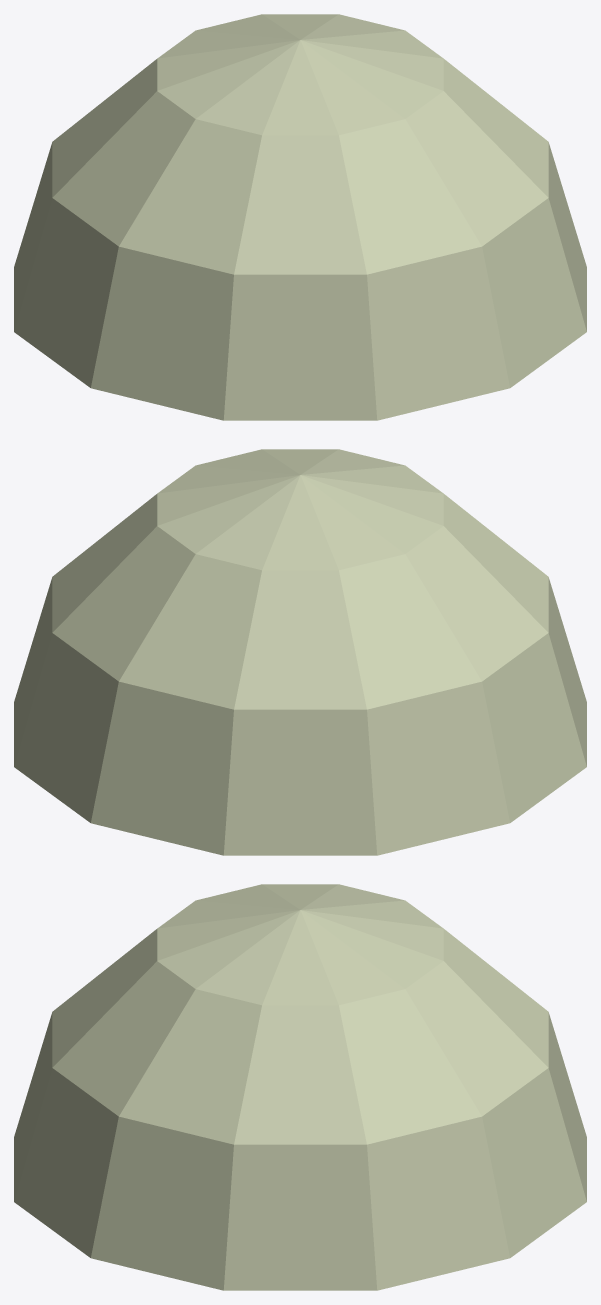
Rendered from black_anvil_hemisphere_fuel_tank_s1_1_collider.obj.
3 renders of one model, top to bottom at view 1: azimuth 30°, elevation 25°; view 2: azimuth 150°, elevation 25°; view 3: azimuth 270°, elevation 25°, orthographic.
Parts seen in each view (by area): view 1: collider; view 2: collider; view 3: collider.
Part boxes in pixels (x1,y1,x2,y2): collider: [14, 14, 586, 420]; collider: [14, 449, 586, 855]; collider: [14, 884, 586, 1290].
Bounding box in the file's own units: 1.25 × 0.625 × 1.25.
